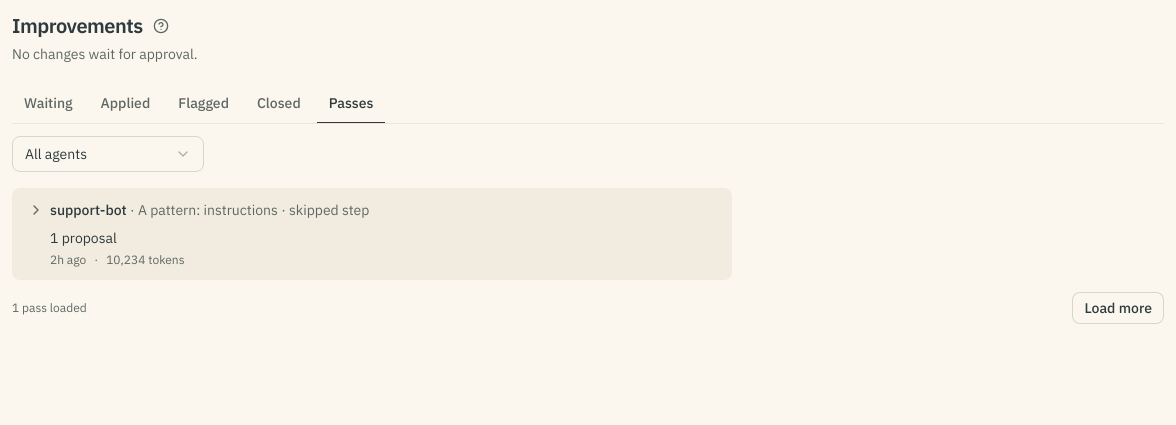
Test case: the list of passes › pages with the cursor
Click the button "Load more": (1118, 308) [1072,292,1164,324]
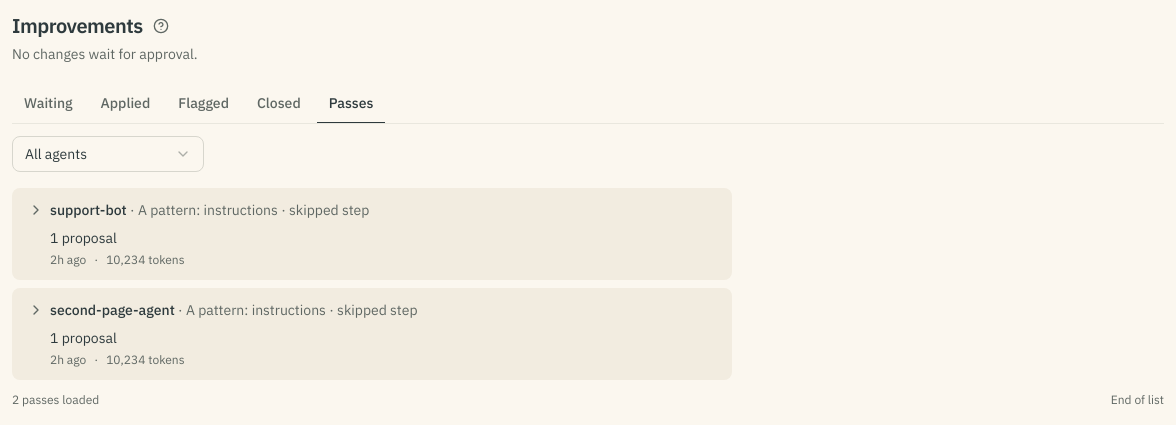
expect the button "second-page-agent · A pattern: instructions · skipped step" is shown: met, box [24,300,720,320]
expect the text "2 passes loaded" is shown: met, box [12,392,99,408]
